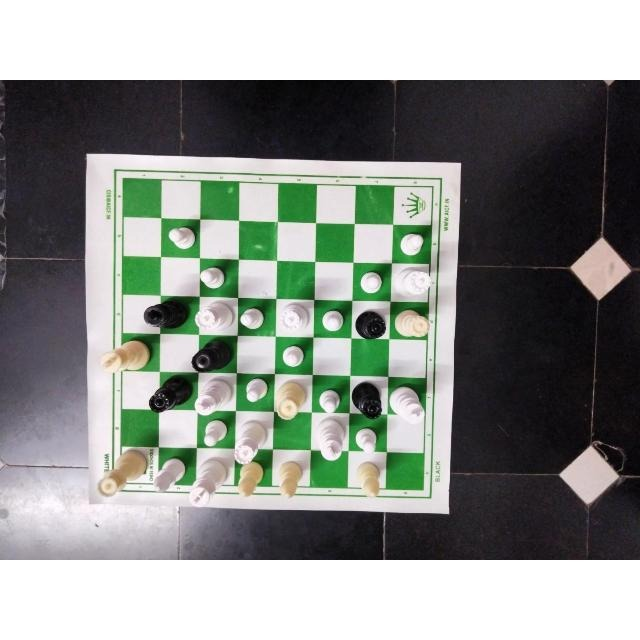black-king: (144, 300, 188, 331)
black-queen: (147, 374, 192, 413), (191, 339, 235, 373), (350, 381, 386, 419), (352, 308, 388, 340)
white-bishop: (150, 456, 188, 495), (233, 465, 271, 501), (270, 461, 306, 498), (351, 461, 383, 498)
white-king: (190, 457, 228, 507), (100, 337, 152, 373), (390, 384, 426, 430), (314, 415, 346, 463), (195, 377, 235, 413)
white-pawn: (164, 221, 198, 257), (200, 415, 228, 448), (354, 423, 380, 457), (319, 304, 347, 335), (397, 234, 427, 262), (318, 385, 344, 415), (237, 304, 264, 332), (246, 375, 270, 406), (279, 344, 308, 369), (360, 266, 382, 297), (199, 266, 225, 287)
white-queen: (98, 445, 148, 494), (273, 376, 306, 422), (193, 298, 235, 334), (234, 419, 267, 463), (393, 304, 429, 344), (396, 267, 432, 300), (279, 304, 311, 336)
